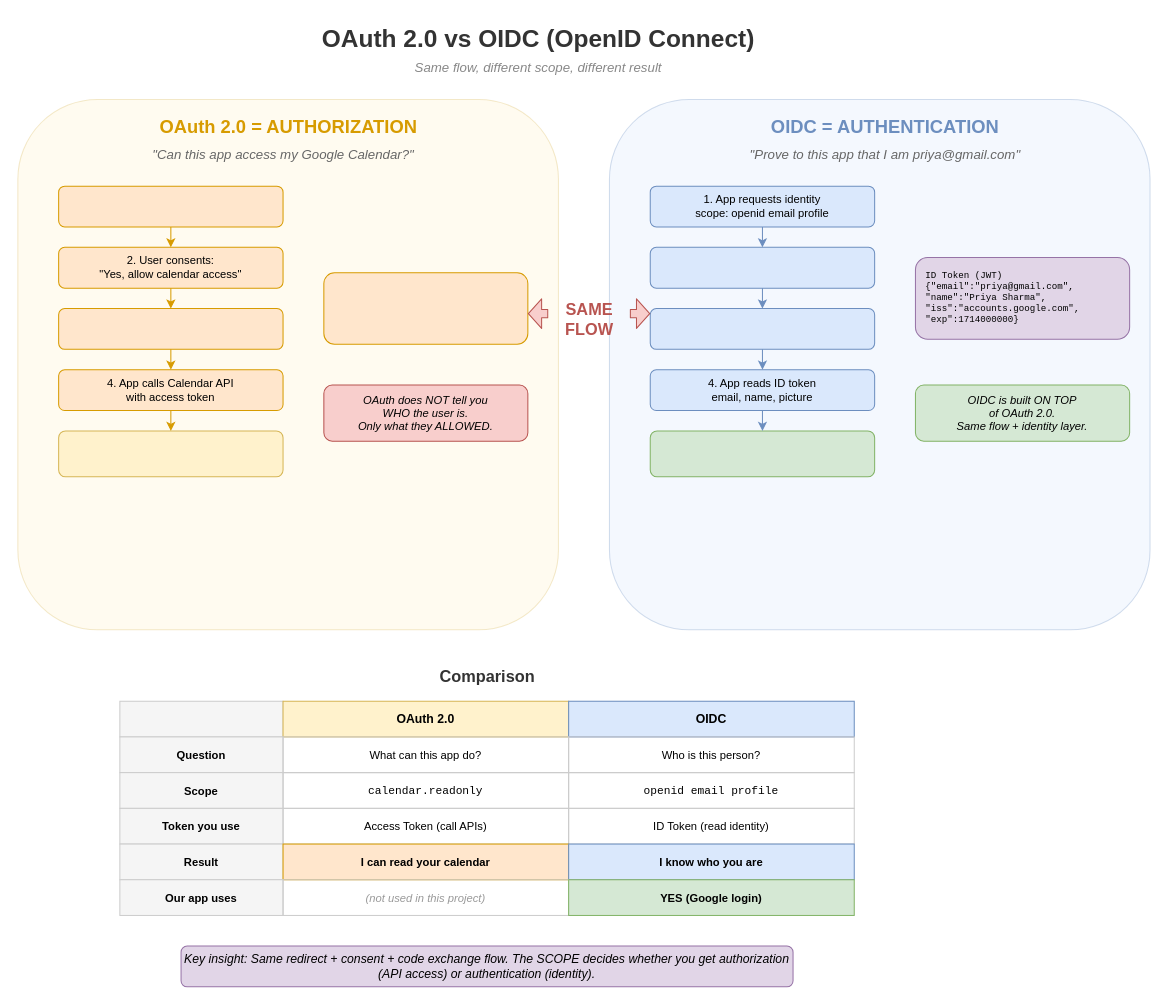
The diagram is 1168 pixels wide and 1005 high, and some of its shapes have lost their labels. The centre of each missing label's shape, as x and y in pixels:
1. App requests access scope: calendar.readonly: (x=170, y=206)
2. User logs in at Google (password goes to Google only): (x=762, y=267)
3. Google returns ACCESS TOKEN: (x=170, y=328)
3. Google returns ID TOKEN (JWT): (x=762, y=328)
5. Result: "I can read your calendar": (x=170, y=453)
5. Result: "I know who you are": (x=762, y=453)
Access Token Grants API access Lifetime: ~1 hour Use: Call Calendar API: (x=425, y=308)
